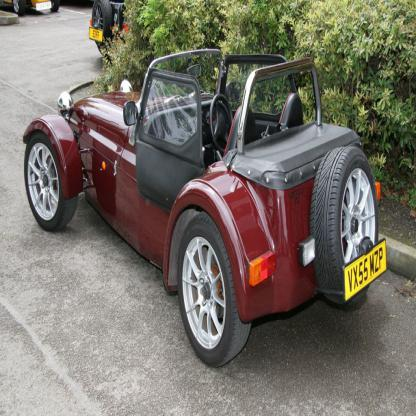Car: (50, 50, 384, 364), (89, 0, 134, 59), (0, 0, 60, 17)
